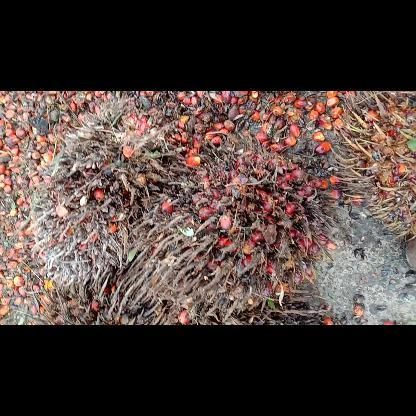Terlalu masak: (114, 130, 346, 324), (29, 90, 192, 317)
